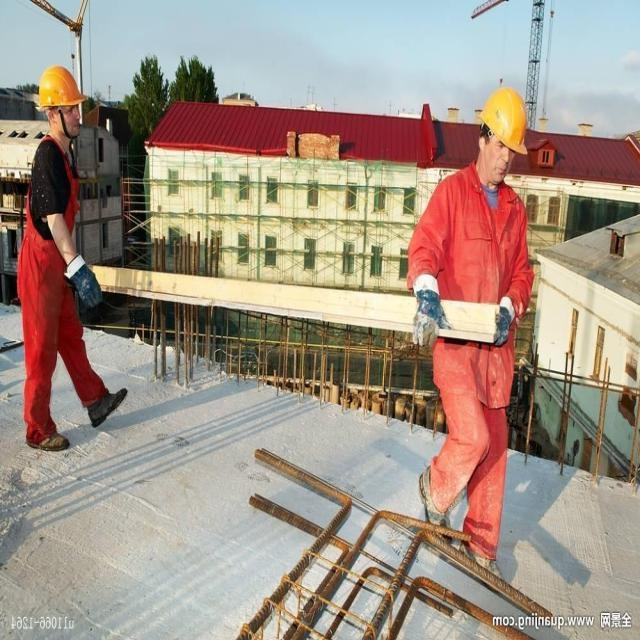Con_Casco: (477, 89, 527, 175), (39, 64, 80, 138)
Sin_Chaleco: (416, 187, 529, 391)
